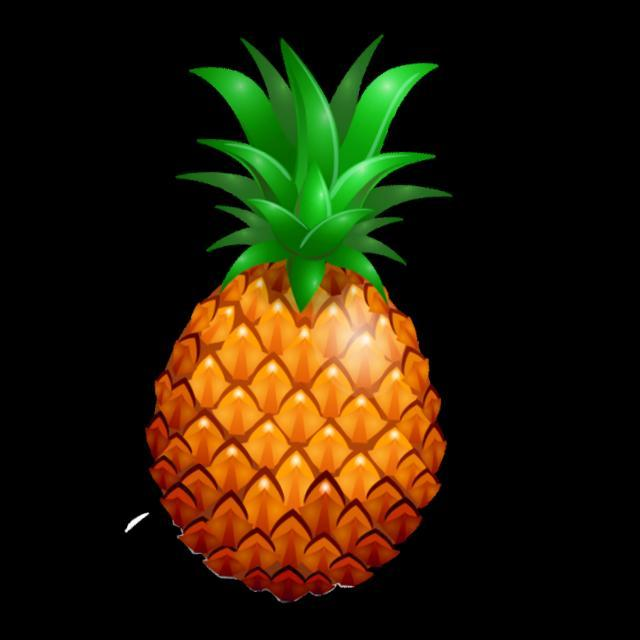PINEAPLE: (140, 39, 470, 608)
